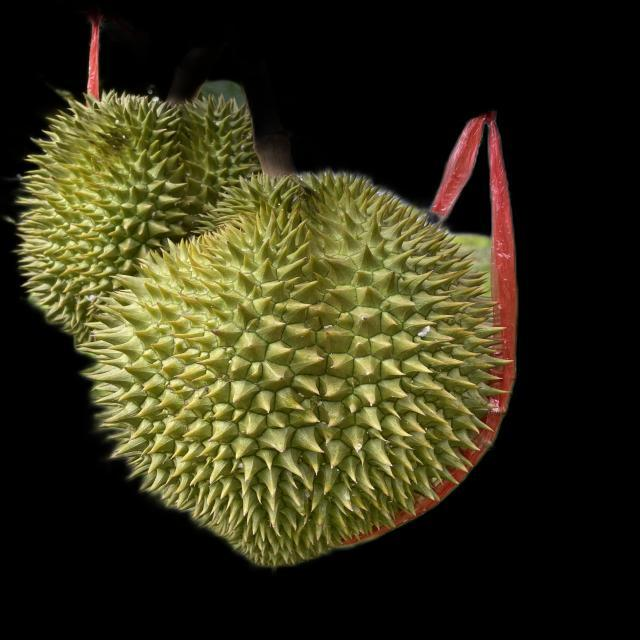immature: (83, 170, 495, 568)
